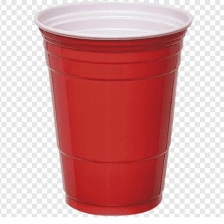glass: (20, 0, 195, 220)
